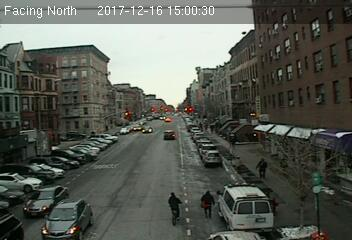bicycle: (166, 191, 184, 227)
car: (43, 198, 91, 240), (23, 186, 68, 214), (205, 150, 220, 166), (163, 129, 176, 141)
pedestrian: (254, 158, 269, 181)
police: (216, 184, 276, 230)
